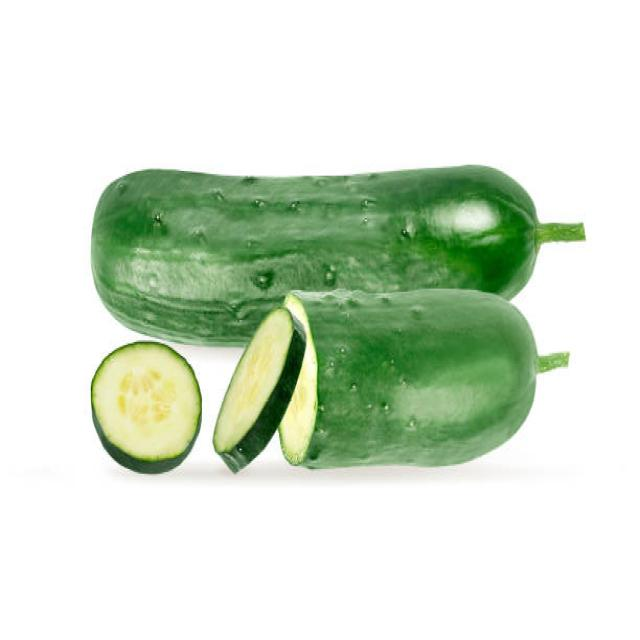cucumber: (91, 166, 540, 352), (275, 288, 538, 471)
